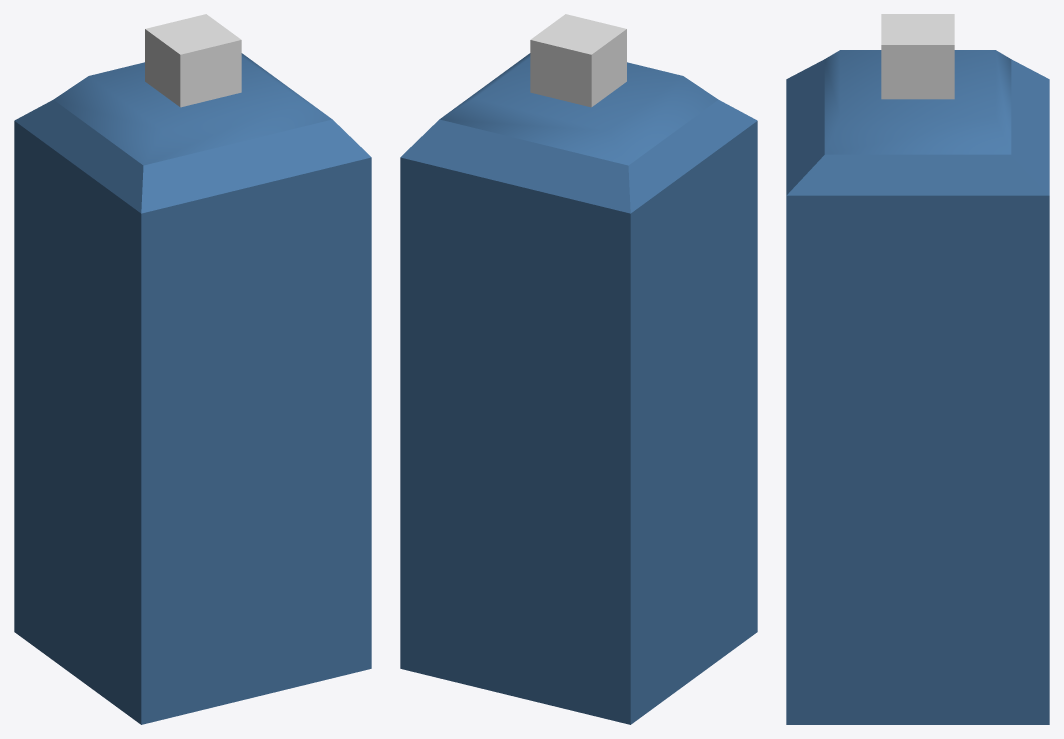
Rendered from Spraycan.fbx.
3 renders of one model, left to right at view 1: azimuth 30°, elevation 25°; view 2: azimuth 150°, elevation 25°; view 3: azimuth 270°, elevation 25°, orthographic. The views are drawn at different scales.
Parts seen in each view (by area): view 1: pCube11, pCube12; view 2: pCube11, pCube12; view 3: pCube11, pCube12.
Boxes of the visible parts, x1,y1,x2,y2 form: pCube11: (14,53,371,724); pCube12: (145,14,241,107); pCube11: (400,53,757,724); pCube12: (530,14,626,107); pCube11: (786,50,1049,724); pCube12: (881,14,954,99).
Bounding box in the file's own units: 0.2773 × 0.7082 × 0.2649.
